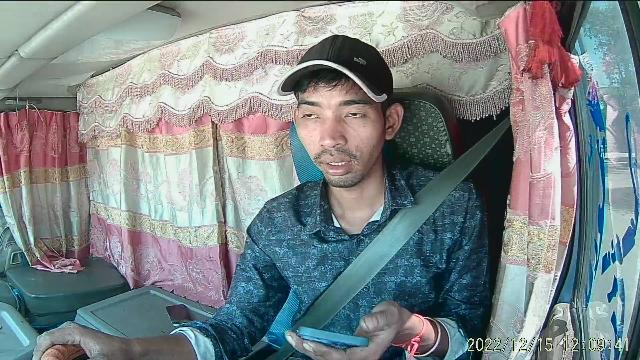PhoneUse: (294, 324, 372, 354), (164, 301, 194, 329)
SafeDriving: (339, 104, 371, 124), (296, 105, 326, 124)
Seatbelt: (293, 148, 493, 326)
